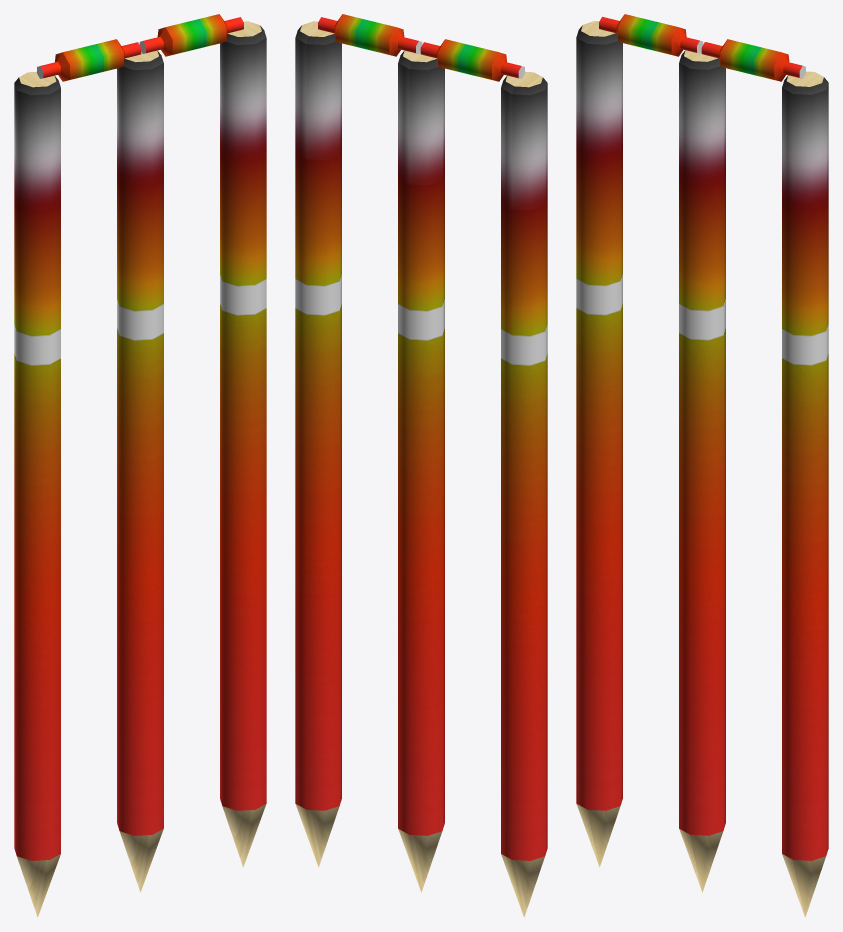
File: Stumps.fbx
The picture shows the model from 3 angles, left to right: view 1: azimuth 30°, elevation 25°; view 2: azimuth 150°, elevation 25°; view 3: azimuth 330°, elevation 25°; orthographic projection.
Parts seen in each view (by area): view 1: stump_2, stump_3, stump_1, bails_2, bails_1; view 2: stump_2, stump_3, stump_1, bails_2, bails_1; view 3: stump_3, stump_2, stump_1, bails_2, bails_1.
Boxes of the visible parts, x1,y1,x2,y2 form: stump_2: [14, 71, 60, 917]; stump_3: [220, 21, 266, 867]; stump_1: [117, 50, 163, 892]; bails_2: [139, 14, 243, 56]; bails_1: [37, 39, 141, 81]; stump_2: [501, 71, 547, 917]; stump_3: [295, 21, 341, 867]; stump_1: [398, 50, 444, 892]; bails_2: [318, 14, 422, 56]; bails_1: [420, 39, 524, 81]; stump_3: [782, 71, 828, 917]; stump_2: [576, 21, 622, 867]; stump_1: [679, 50, 725, 892]; bails_2: [701, 39, 805, 81]; bails_1: [599, 14, 703, 56].
Size of the model in its own units: 480 by 1593 by 81.2.
1 material, 1 textured.
